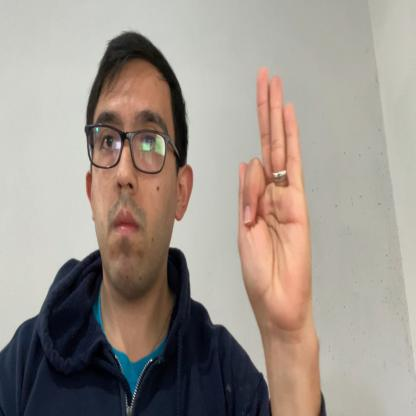F: (237, 67, 311, 325)
